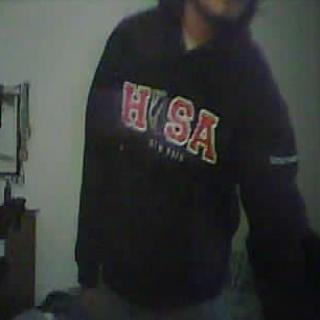HOSA Hoodie: (82, 2, 305, 296)
